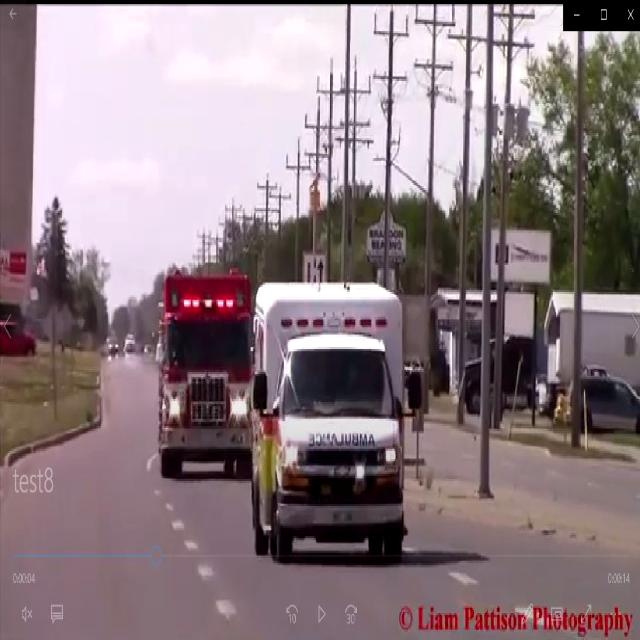emergency: (248, 280, 427, 570), (153, 261, 260, 488)
